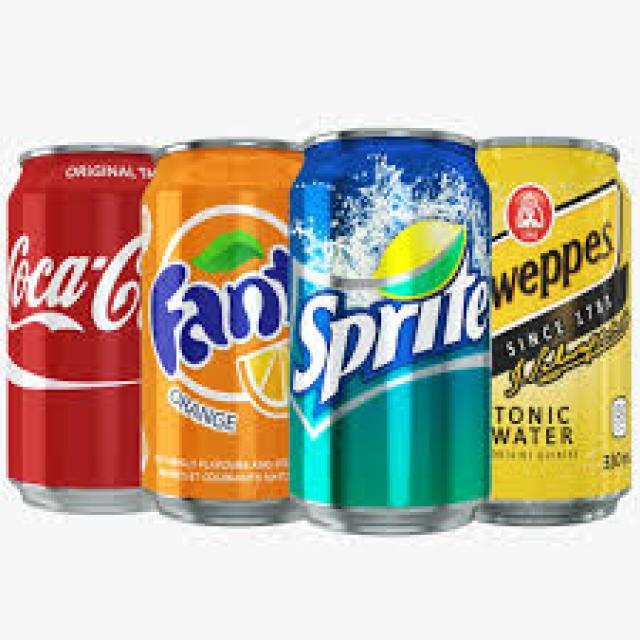Cans: (282, 122, 498, 529), (140, 139, 308, 535), (478, 136, 640, 532), (6, 145, 148, 518)
